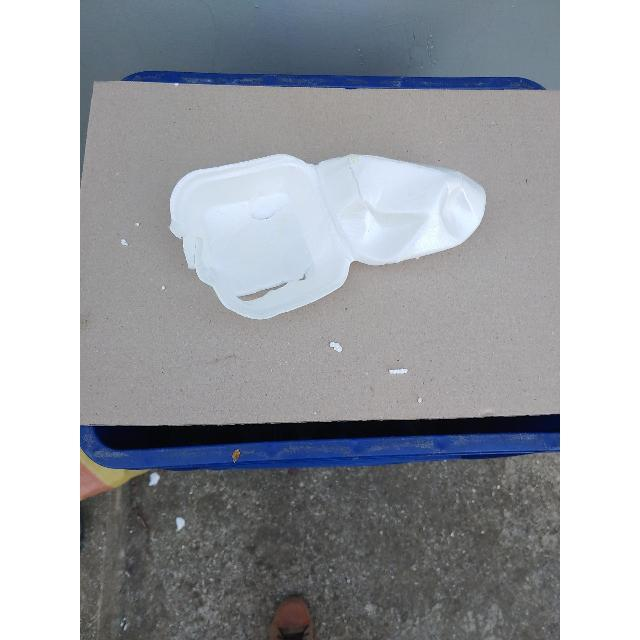Plastico descartable: (169, 155, 487, 322)
